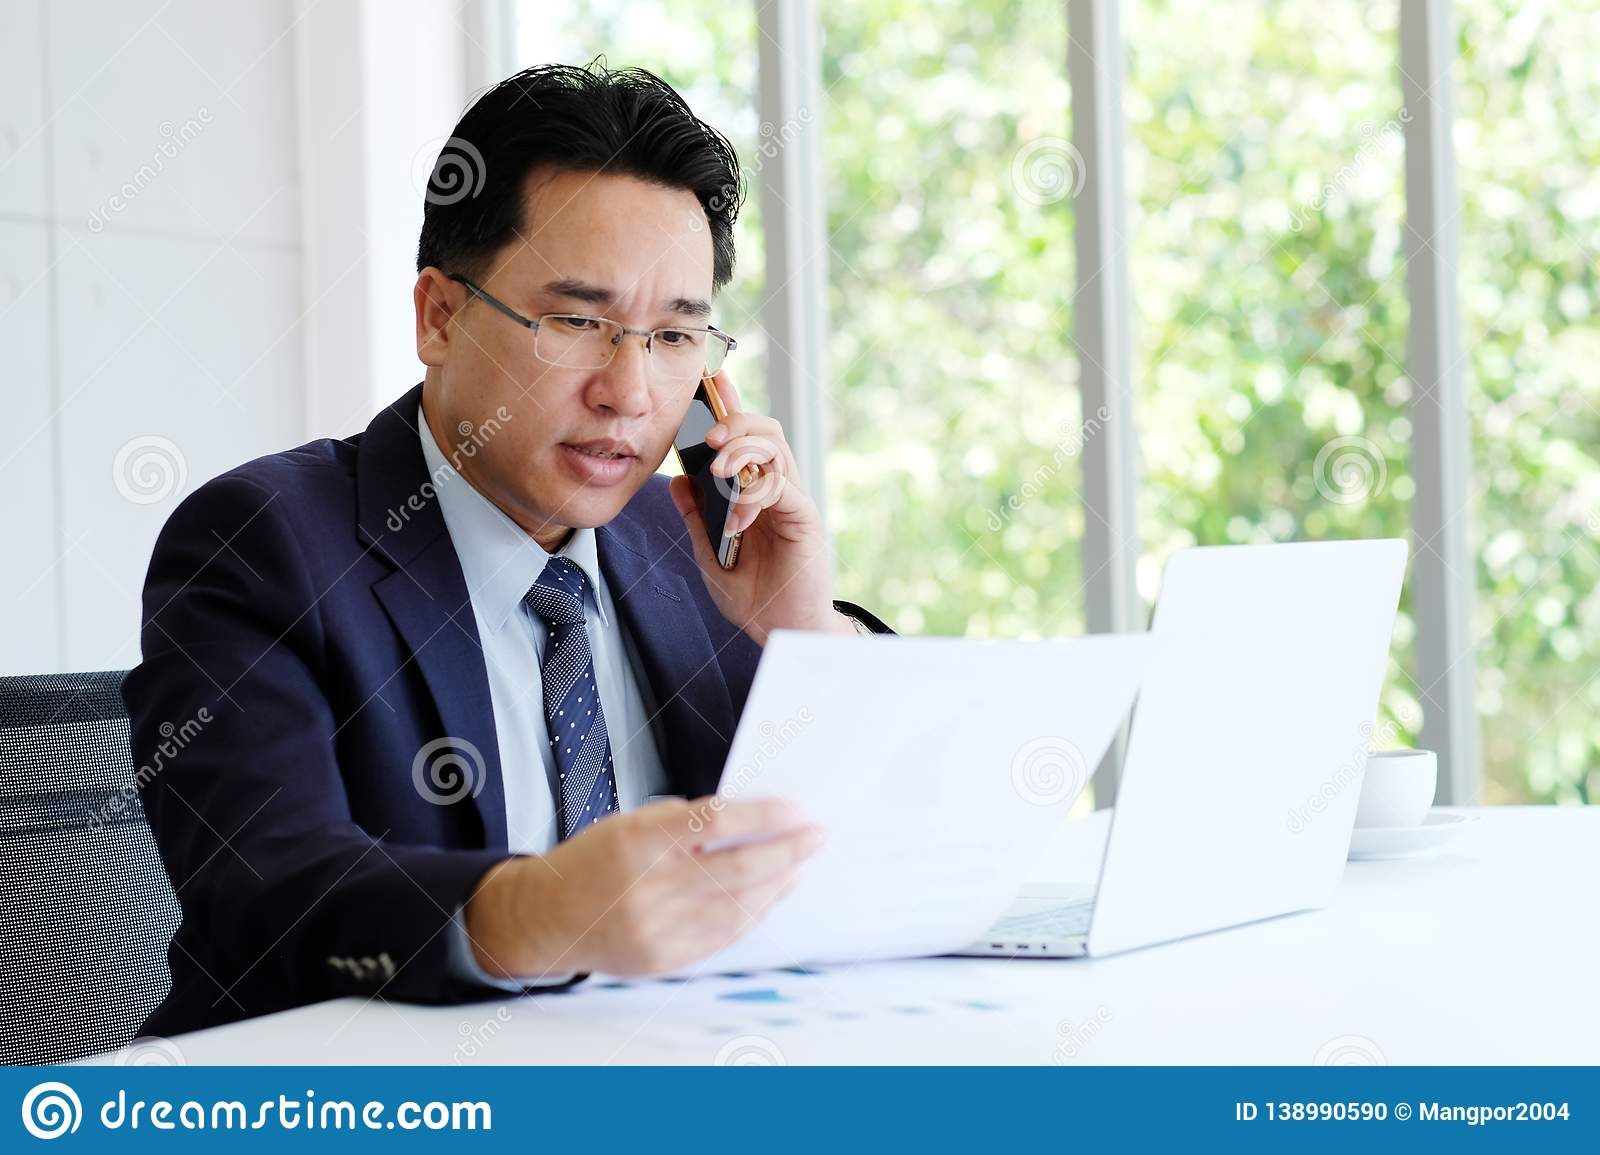phone: (671, 368, 766, 581)
talk: (514, 269, 834, 632)
